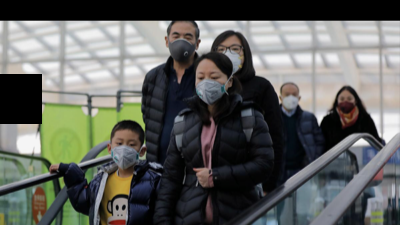with_mask: (193, 68, 230, 106), (108, 135, 141, 170), (167, 29, 198, 62), (215, 41, 245, 74), (278, 89, 299, 111), (336, 93, 356, 115)
